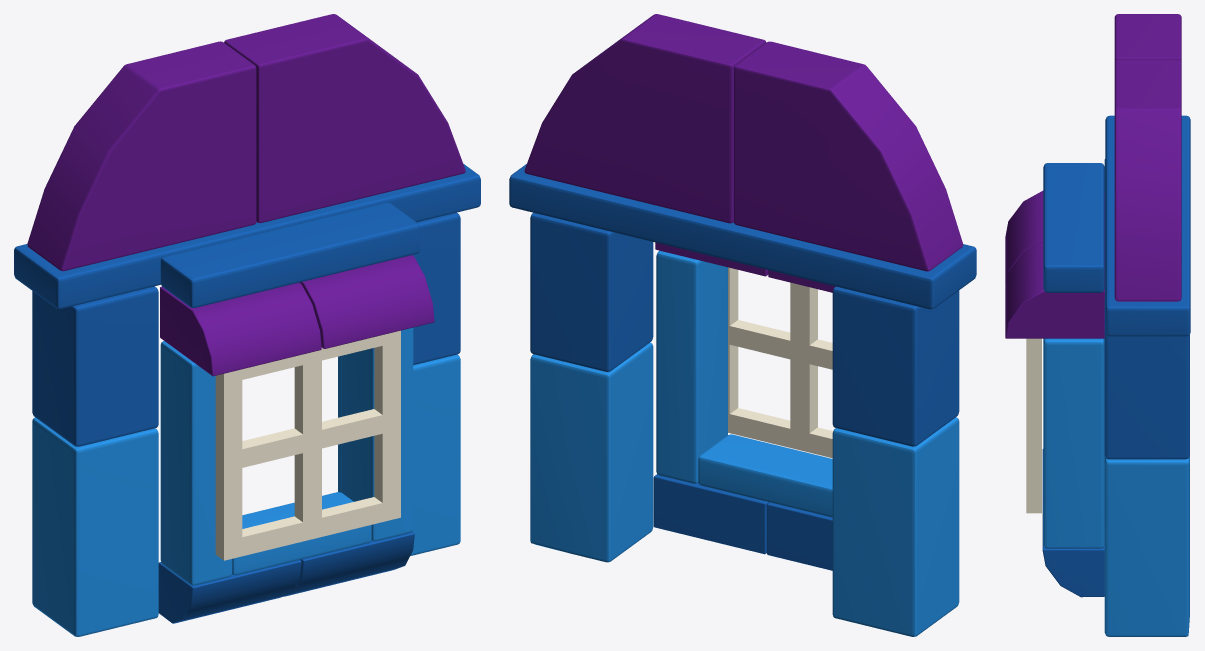
3 views of the same model, side by side, from view 1: azimuth 30°, elevation 25°; view 2: azimuth 150°, elevation 25°; view 3: azimuth 270°, elevation 25° (orthographic). The views are drawn at different scales.
Parts seen in each view (by area): view 1: base_07; view 2: base_07; view 3: base_07.
Part boxes in pixels (box(x1,y1,x2,y2)): base_07: box(14, 14, 480, 636); base_07: box(509, 14, 976, 636); base_07: box(1005, 14, 1190, 636).
Bounding box in the file's own units: 11761 × 13870 × 4759.
1 material, 1 textured.
